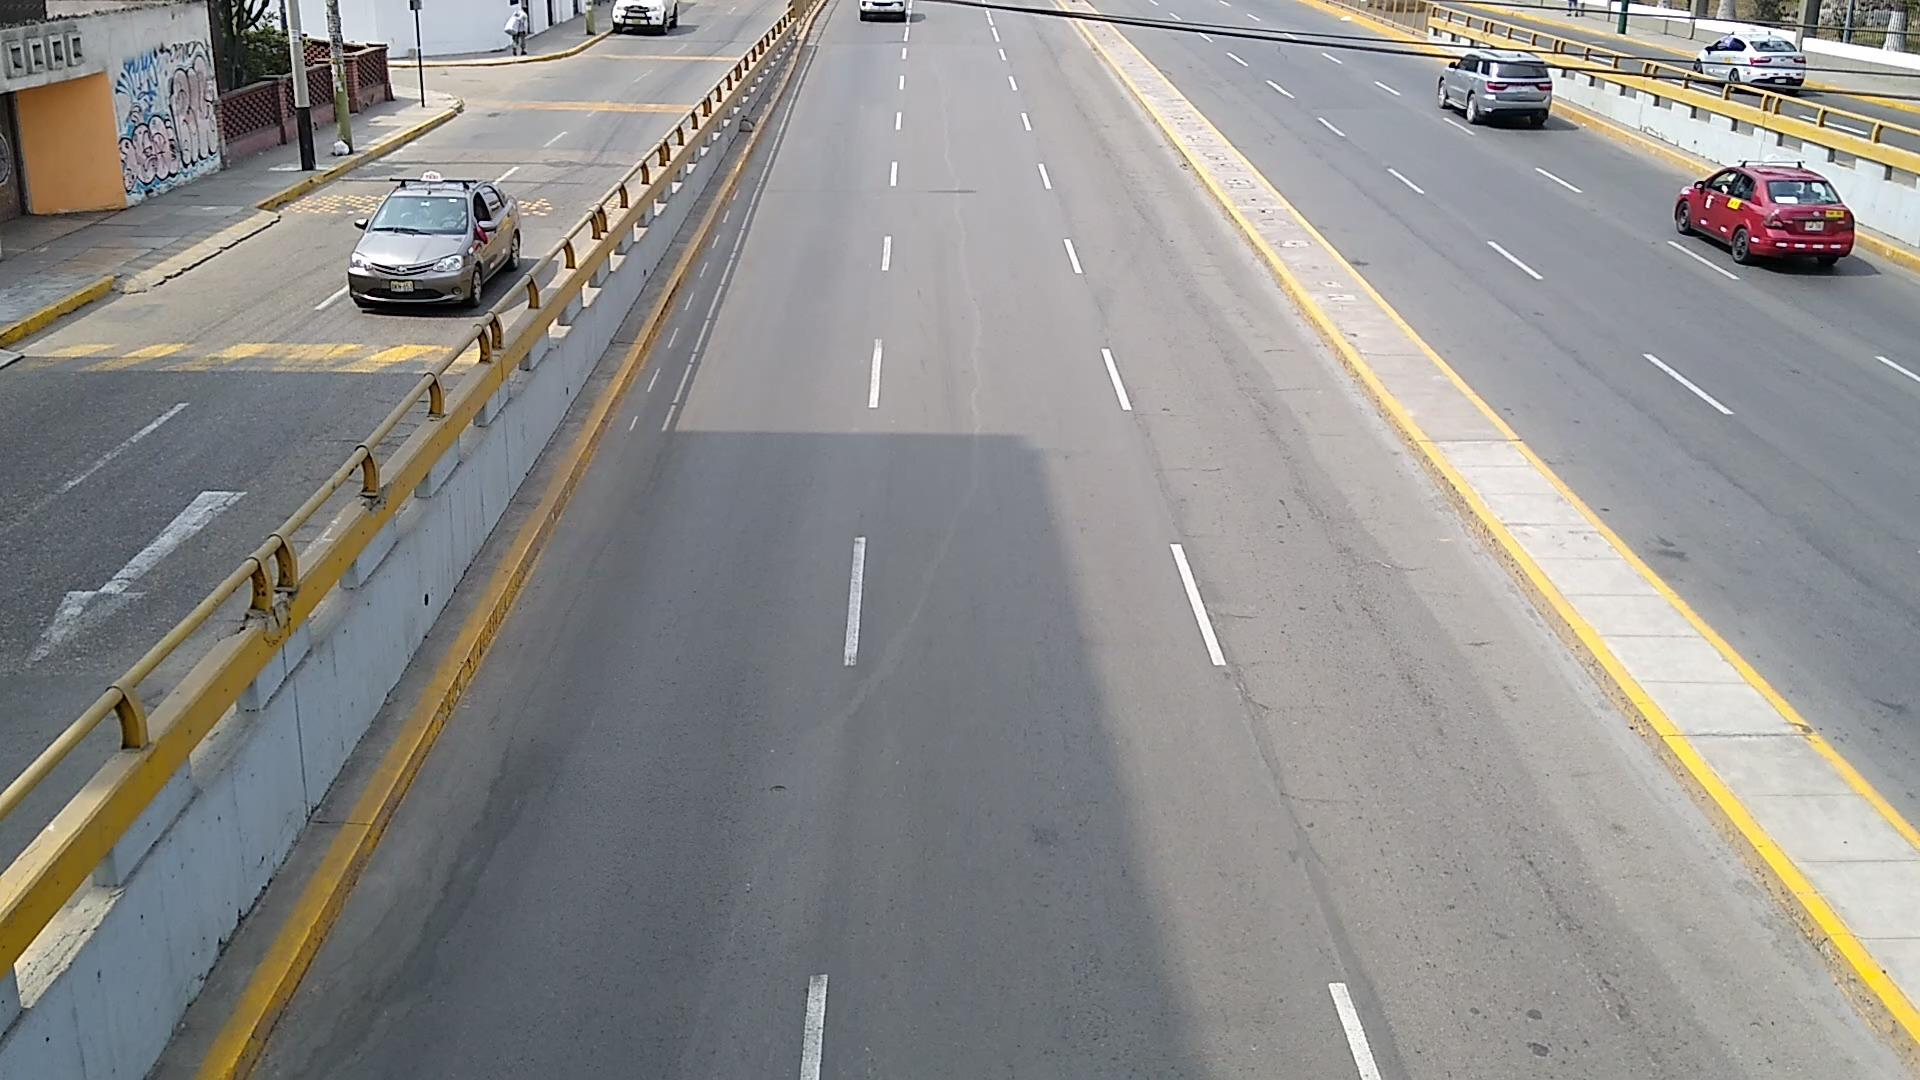car: (345, 172, 521, 308), (1672, 161, 1856, 266), (1440, 49, 1552, 128), (1699, 34, 1808, 86), (611, 0, 679, 34), (859, 0, 911, 22)
pedestrian: (506, 0, 529, 56)
